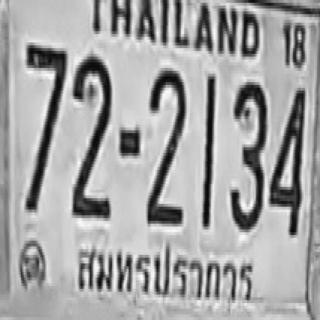N01: (201, 71, 214, 227)
N02: (70, 52, 111, 217), (147, 65, 186, 224)
N03: (230, 79, 267, 229)
N04: (268, 85, 304, 235)
N07: (24, 41, 66, 211)
P57: (72, 237, 256, 307)
